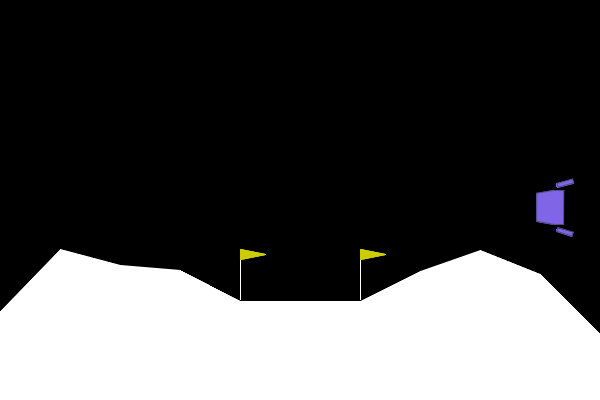lander: (534, 178, 574, 238)
